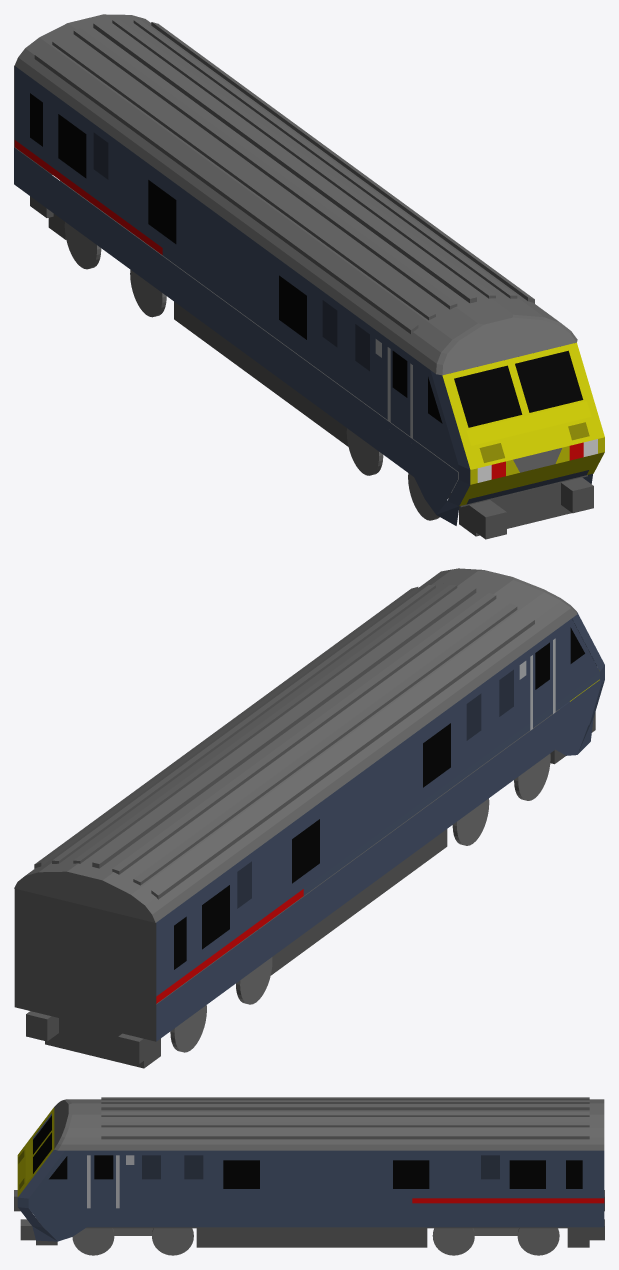
File: br-mk3-dvt-gner.dae
The picture shows the model from 3 angles, top to bottom: view 1: azimuth 30°, elevation 25°; view 2: azimuth 150°, elevation 25°; view 3: azimuth 270°, elevation 25°; orthographic projection. The views are drawn at different scales.
Visible parts, largest first — view 1: Plane_001, Plane_091, Plane_106, Plane_028, Cube_007, Plane_052, Plane_105, Cube_006, Cube_005, Cube_002, Plane_089, Plane_090 (+21 smaller); view 2: Plane_001, Plane_091, Plane_019, Plane_106, Cube_007, Plane_105, Cube_006, Cube_005, Cube_002, Plane_089, Plane_090, Cube_033 (+14 smaller); view 3: Plane, Plane_001, Plane_030, Cube_033, Cube_008, Plane_104, Plane_007, Plane_003, Cube_005, Cube_004, Cube_003, Plane_028 (+28 smaller).
Part boxes in pixels (x1,y1,x2,y2): Plane_001: [14, 14, 538, 353]; Plane_091: [14, 66, 455, 454]; Plane_106: [132, 234, 457, 500]; Plane_028: [408, 302, 577, 375]; Cube_007: [34, 49, 418, 334]; Plane_052: [454, 350, 583, 427]; Plane_105: [14, 147, 148, 282]; Cube_006: [52, 38, 435, 320]; Cube_005: [93, 21, 476, 303]; Cube_002: [73, 28, 457, 309]; Plane_089: [14, 140, 458, 471]; Plane_090: [14, 132, 457, 463]; Plane_001: [14, 583, 549, 922]; Plane_091: [156, 618, 596, 988]; Plane_019: [14, 888, 156, 1041]; Plane_106: [274, 679, 600, 942]; Cube_007: [151, 614, 534, 899]; Plane_105: [156, 918, 290, 1041]; Cube_006: [133, 603, 517, 885]; Cube_005: [92, 586, 476, 868]; Cube_002: [112, 593, 496, 874]; Plane_089: [156, 672, 599, 1003]; Plane_090: [156, 667, 599, 996]; Cube_033: [258, 799, 447, 975]; Plane: [33, 1150, 604, 1193]; Plane_001: [94, 1099, 604, 1150]; Plane_030: [28, 1203, 450, 1227]; Cube_033: [196, 1228, 427, 1247]; Cube_008: [101, 1131, 589, 1139]; Plane_104: [430, 1203, 604, 1227]; Plane_007: [28, 1198, 604, 1203]; Plane_003: [29, 1193, 604, 1198]; Cube_005: [101, 1105, 589, 1110]; Cube_004: [101, 1122, 589, 1127]; Cube_003: [101, 1112, 589, 1116]; Plane_028: [54, 1099, 94, 1150].
Size of the model in its own units: 2.02 by 11.15 by 2.73.
